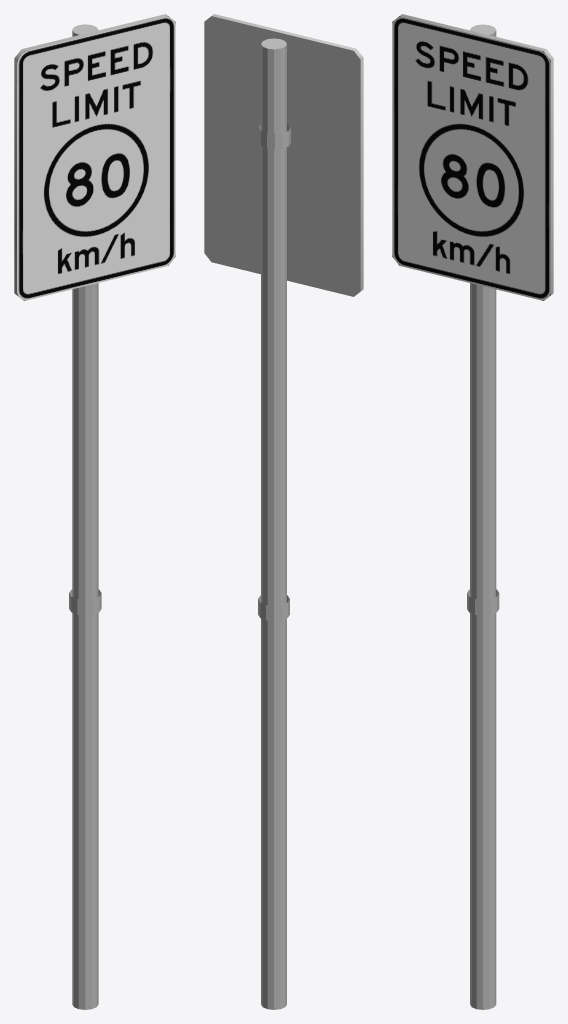
The model's file is SM_warning_sign_13.fbx.
3 renders of one model, left to right at view 1: azimuth 30°, elevation 25°; view 2: azimuth 150°, elevation 25°; view 3: azimuth 330°, elevation 25°, orthographic.
Visible parts, largest first — view 1: warning_sign_13; view 2: warning_sign_13; view 3: warning_sign_13.
Boxes of the visible parts, x1=… form: warning_sign_13: x1=14, y1=14, x2=175, y2=1009; warning_sign_13: x1=204, y1=14, x2=363, y2=1009; warning_sign_13: x1=392, y1=14, x2=553, y2=1009.
Size of the model in its own units: 60.89 by 359 by 12.91.
